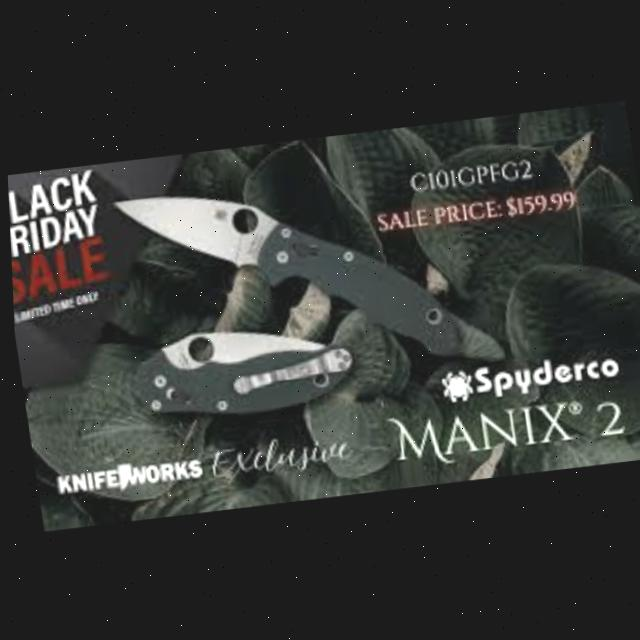knife: (107, 155, 503, 403)
